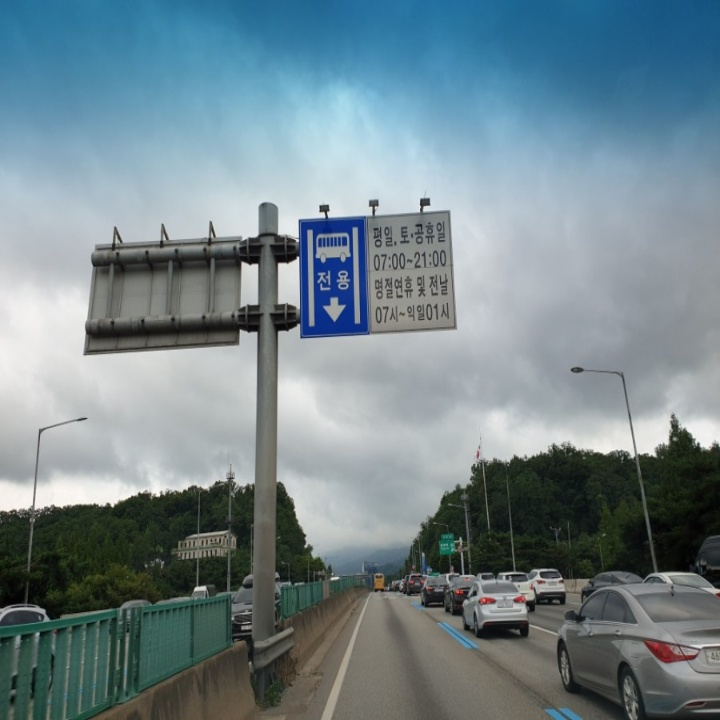bus: (313, 226, 355, 265)
